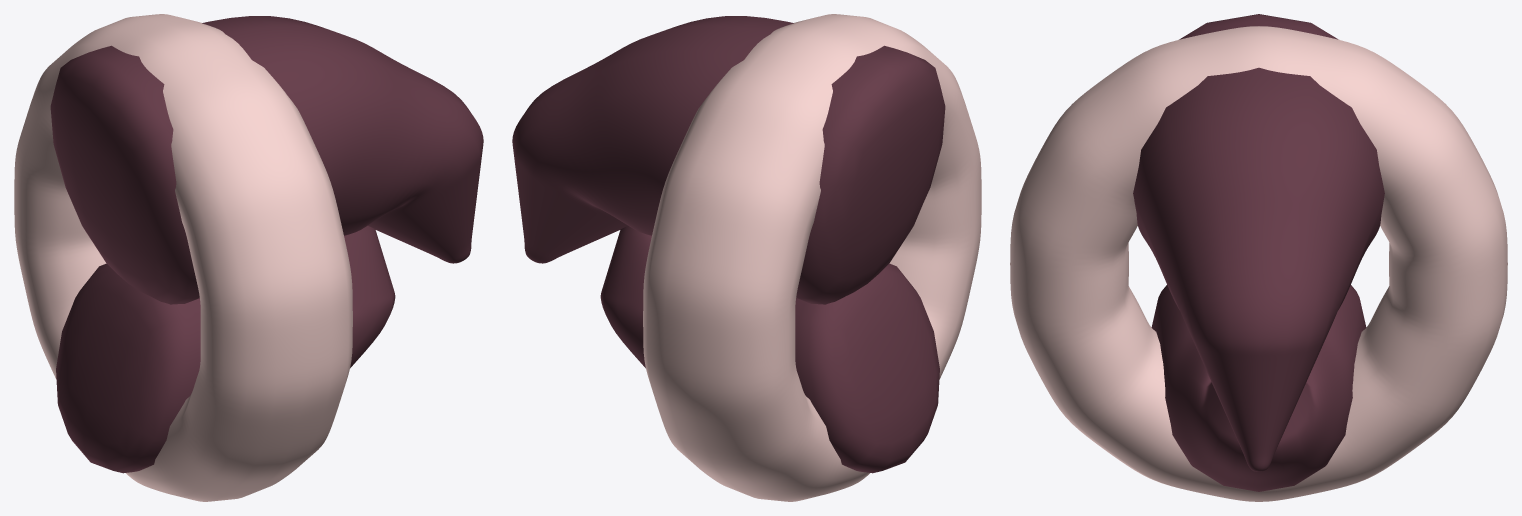
Rendered from creature.squidbeak.glb.
3 views of the same model, side by side, from view 1: azimuth 30°, elevation 25°; view 2: azimuth 150°, elevation 25°; view 3: azimuth 270°, elevation 25° (orthographic).
Parts seen in each view (by area): view 1: Dark, Pad; view 2: Dark, Pad; view 3: Pad, Dark.
Boxes of the visible parts, <box> form: Dark: <box>50,16,483,473</box>; Pad: <box>14,14,352,501</box>; Dark: <box>512,16,945,473</box>; Pad: <box>643,14,981,501</box>; Pad: <box>1010,26,1507,501</box>; Dark: <box>1133,14,1384,491</box>.
Size of the model in its own units: 1.56 by 1.71 by 1.69.
